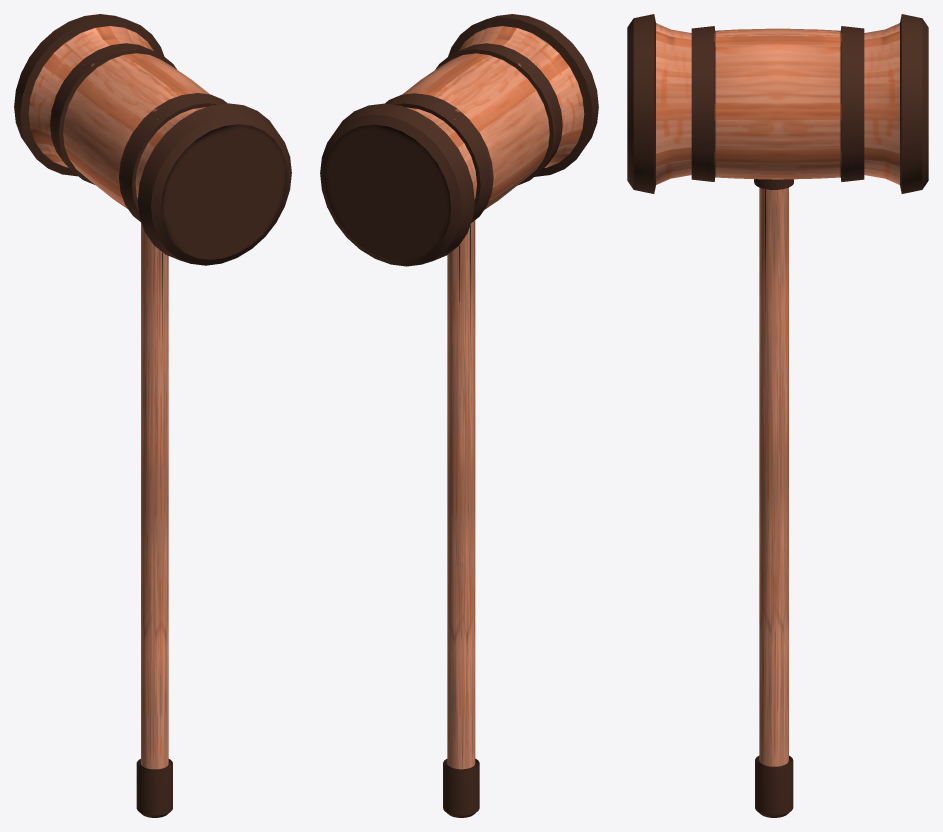
Rendered from MARRETA.fbx.
3 renders of one model, left to right at view 1: azimuth 30°, elevation 25°; view 2: azimuth 150°, elevation 25°; view 3: azimuth 270°, elevation 25°, orthographic. The views are drawn at different scales.
Visible parts, largest first — view 1: Marreta; view 2: Marreta; view 3: Marreta.
Part boxes in pixels (box(x1,y1,x2,y2)): Marreta: box(14, 14, 291, 817); Marreta: box(320, 14, 598, 817); Marreta: box(627, 14, 928, 817).
Size of the model in its own units: 381 by 1843 by 637.
1 material, 1 textured.
